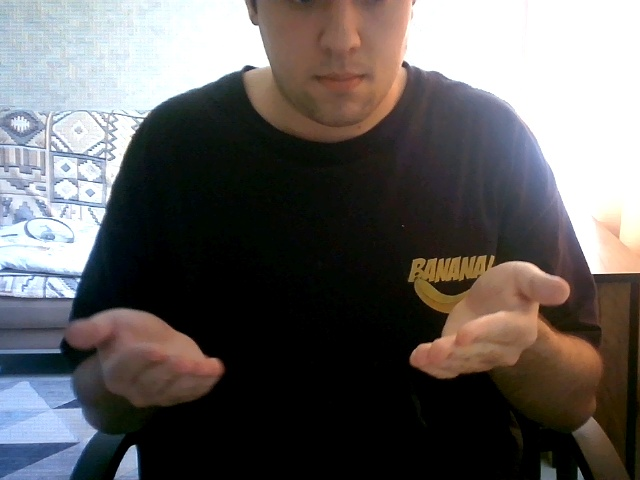hello: (65, 241, 600, 422)
